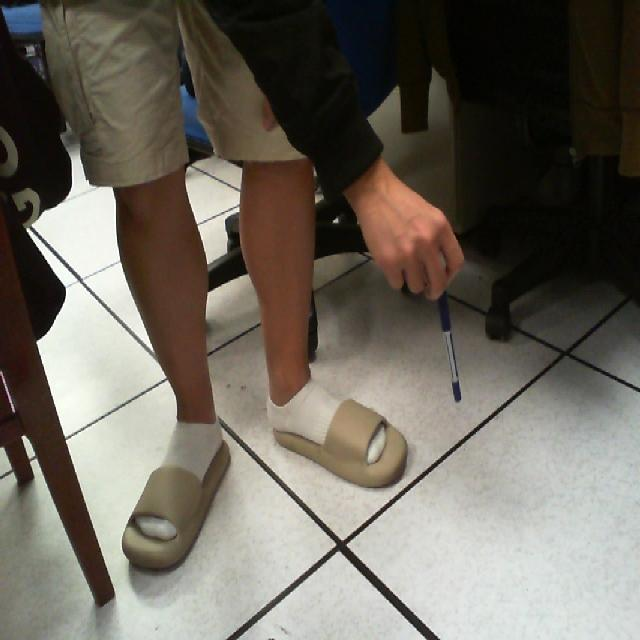Pen: (417, 246, 476, 424)
